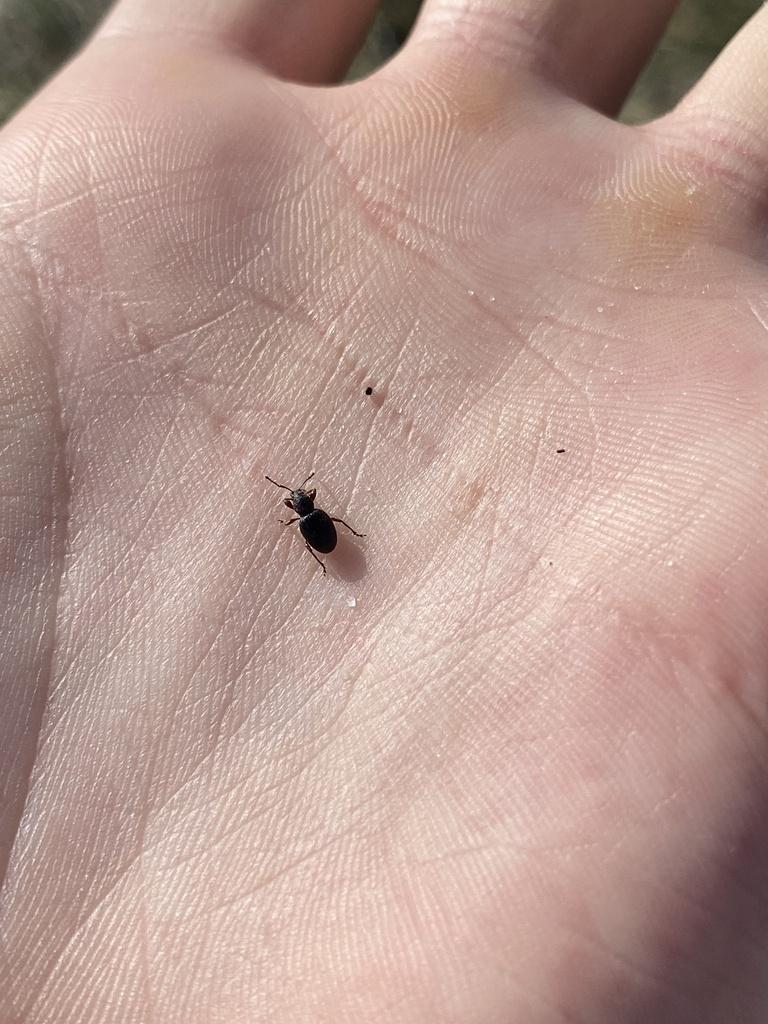weevils: (237, 456, 400, 591)
